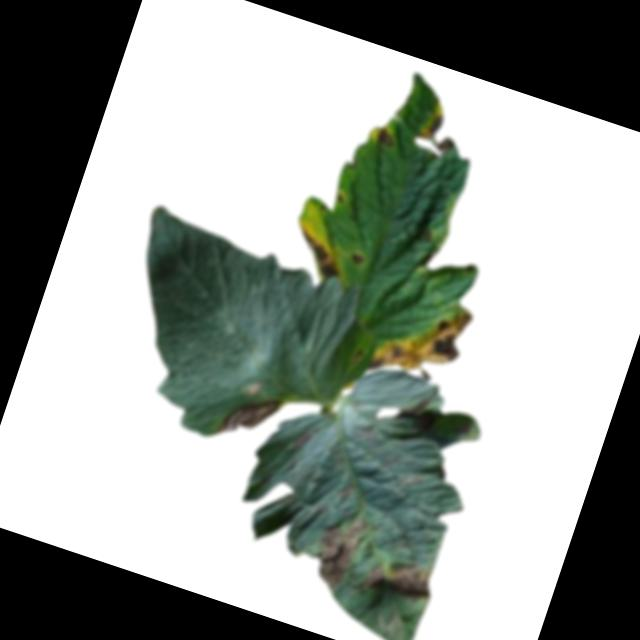Early_blight: (358, 283, 473, 395), (306, 503, 371, 593), (354, 542, 441, 609), (211, 378, 285, 454), (281, 222, 351, 282), (418, 108, 465, 156), (370, 121, 399, 150), (347, 245, 367, 265)
